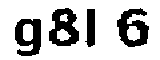6: (112, 4, 155, 51)
8: (46, 4, 80, 51)
g: (11, 15, 44, 59)
l: (84, 7, 105, 50)
